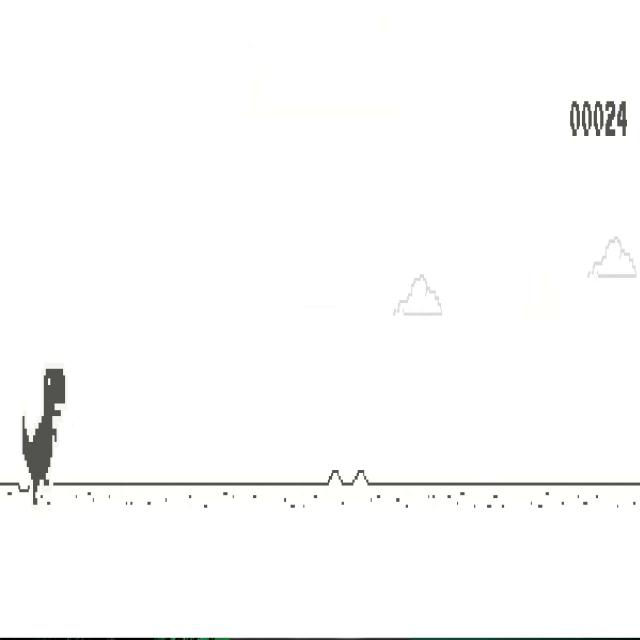dino: (21, 364, 66, 507)
